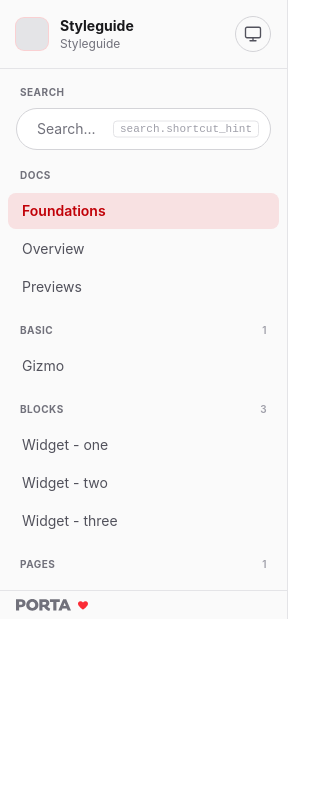
Sidebar — pages grouped by category › groups pages by category: lowest weight first, the default group last
The image size is (320, 804).
Click the button "Pages 1". click: (38, 564)
box: [8, 551, 279, 578]
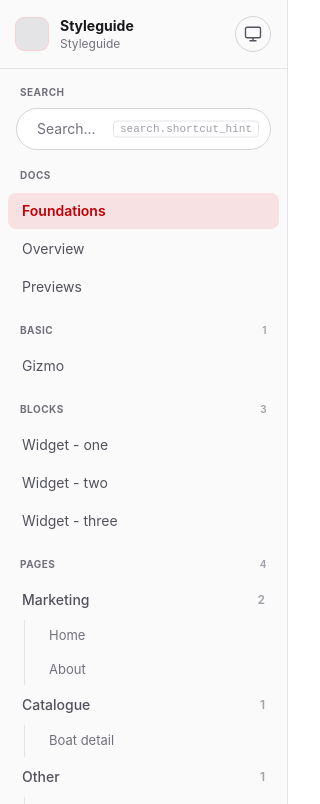
expect the button "Marketing 2" is shown: met, box [8, 582, 279, 618]
